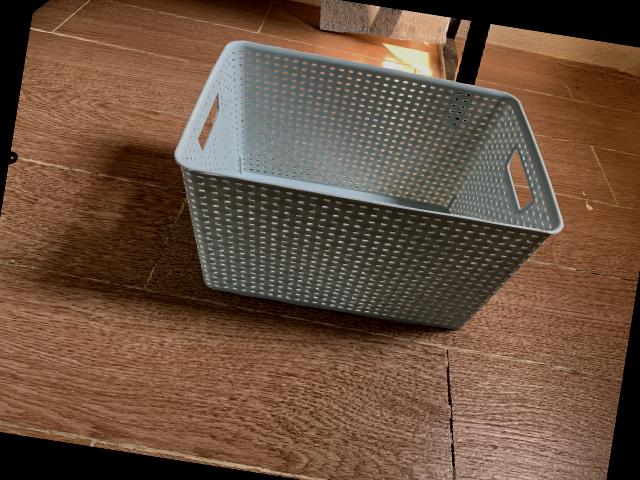cart: (174, 41, 565, 331)
